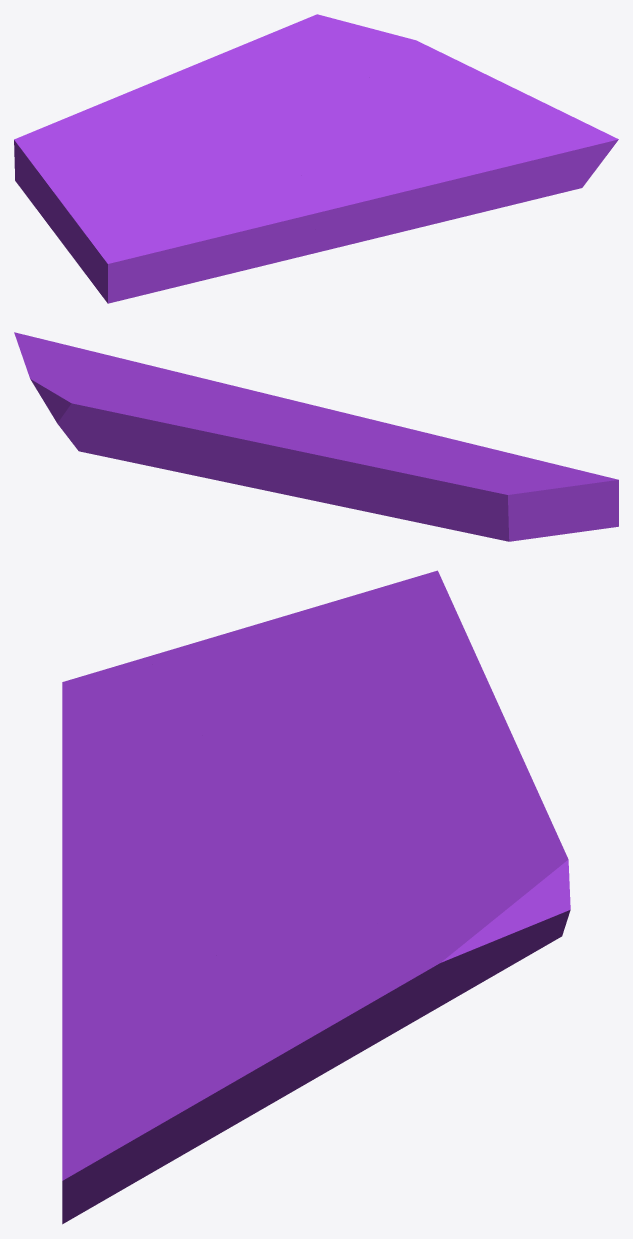
Rendered from Window_140_2_chunks.fbx.
3 renders of one model, top to bottom at view 1: azimuth 30°, elevation 25°; view 2: azimuth 150°, elevation 25°; view 3: azimuth 270°, elevation 25°, orthographic. The views are drawn at different scales.
Parts seen in each view (by area): view 1: Window_140_2_7, Window_140_2_1, Window_140_2_6, Window_140_2_14, Window_140_2_3, Window_140_2_13, Window_140_2_8, Window_140_2_4, Window_140_2_10, Window_140_2_11, Window_140_2_15, Window_140_2_12; view 2: Window_140_2_1, Window_140_2_8, Window_140_2_11, Window_140_2_7, Window_140_2_3, Window_140_2_6, Window_140_2_14, Window_140_2_4, Window_140_2_10, Window_140_2_13, Window_140_2_15, Window_140_2_9 (+1 smaller); view 3: Window_140_2_7, Window_140_2_1, Window_140_2_3, Window_140_2_6, Window_140_2_8, Window_140_2_10, Window_140_2_4, Window_140_2_13, Window_140_2_11, Window_140_2_14, Window_140_2_15, Window_140_2_12.
Part boxes in pixels (left/top/right/bottom): Window_140_2_7: left=389, top=45, right=618, bottom=209; Window_140_2_1: left=14, top=95, right=178, bottom=278; Window_140_2_6: left=298, top=134, right=494, bottom=252; Window_140_2_14: left=88, top=211, right=242, bottom=303; Window_140_2_3: left=122, top=84, right=299, bottom=170; Window_140_2_13: left=221, top=165, right=316, bottom=270; Window_140_2_8: left=149, top=55, right=334, bottom=125; Window_140_2_4: left=284, top=66, right=395, bottom=164; Window_140_2_10: left=311, top=23, right=426, bottom=96; Window_140_2_11: left=219, top=14, right=350, bottom=66; Window_140_2_15: left=119, top=181, right=235, bottom=232; Window_140_2_12: left=127, top=161, right=229, bottom=204; Window_140_2_1: left=323, top=452, right=596, bottom=541; Window_140_2_8: left=156, top=405, right=313, bottom=493; Window_140_2_11: left=52, top=395, right=212, bottom=461; Window_140_2_7: left=14, top=332, right=187, bottom=391; Window_140_2_3: left=267, top=420, right=406, bottom=502; Window_140_2_6: left=182, top=373, right=372, bottom=420; Window_140_2_14: left=468, top=443, right=618, bottom=529; Window_140_2_4: left=92, top=388, right=313, bottom=421; Window_140_2_10: left=29, top=376, right=180, bottom=414; Window_140_2_13: left=323, top=420, right=466, bottom=442; Window_140_2_15: left=403, top=442, right=529, bottom=472; Window_140_2_9: left=75, top=446, right=194, bottom=475; Window_140_2_7: left=62, top=939, right=430, bottom=1224; Window_140_2_1: left=142, top=570, right=484, bottom=739; Window_140_2_3: left=181, top=673, right=495, bottom=863; Window_140_2_6: left=62, top=860, right=213, bottom=1042; Window_140_2_8: left=306, top=699, right=525, bottom=888; Window_140_2_10: left=347, top=860, right=544, bottom=1003; Window_140_2_4: left=196, top=841, right=390, bottom=955; Window_140_2_13: left=62, top=785, right=236, bottom=884; Window_140_2_11: left=439, top=766, right=570, bottom=939; Window_140_2_14: left=62, top=658, right=189, bottom=806; Window_140_2_15: left=63, top=686, right=202, bottom=806; Window_140_2_12: left=202, top=694, right=278, bottom=792.
Bounding box in the file's own units: 1352 × 290 × 582.
